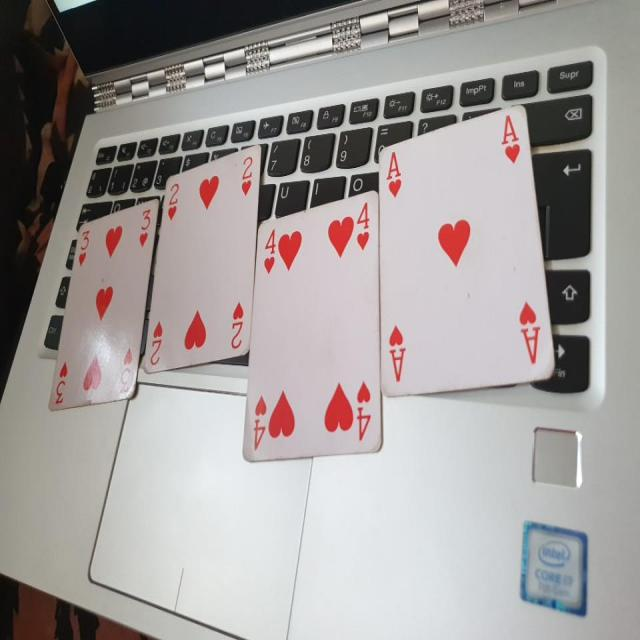2 Hearts: (138, 142, 263, 367)
3 Hearts: (43, 190, 162, 422)
4 Hearts: (240, 187, 389, 465)
A Hearts: (372, 105, 568, 404)
